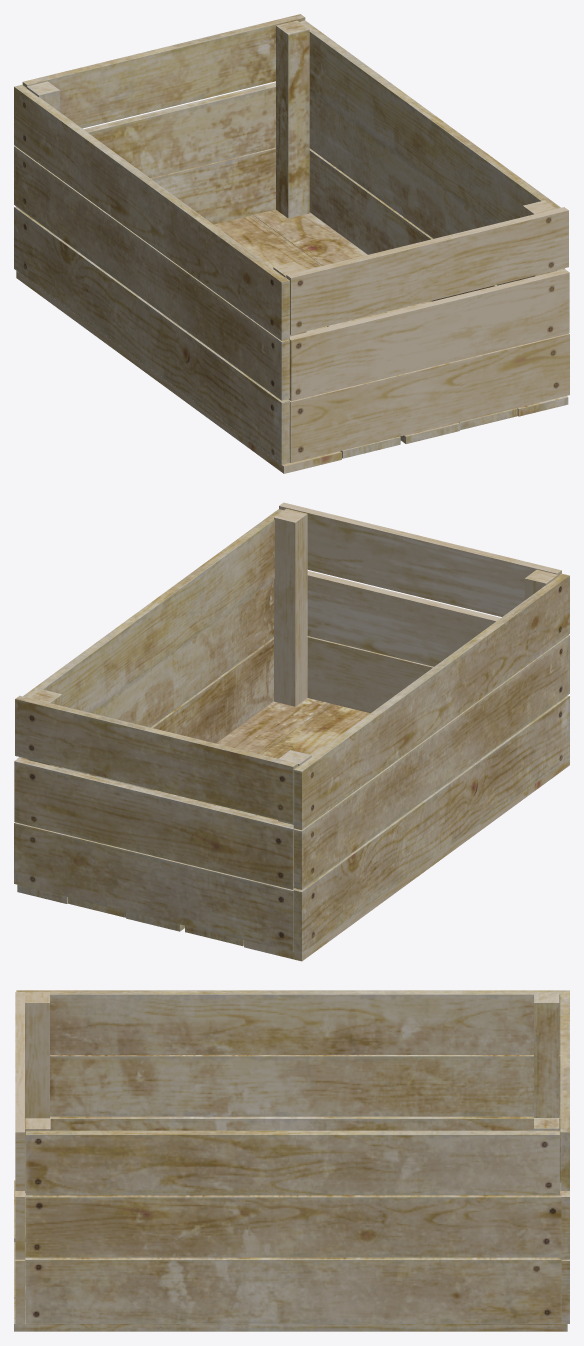
Rendered from SM_PK04_WoodenCrate_01.fbx.
The picture shows the model from 3 angles, top to bottom: view 1: azimuth 30°, elevation 25°; view 2: azimuth 150°, elevation 25°; view 3: azimuth 270°, elevation 25°; orthographic projection. The views are drawn at different scales.
Parts seen in each view (by area): view 1: SM_PK04_WoodenCrate_01_LOD0; view 2: SM_PK04_WoodenCrate_01_LOD0; view 3: SM_PK04_WoodenCrate_01_LOD0.
Boxes of the visible parts, left/top/right/bottom form: SM_PK04_WoodenCrate_01_LOD0: left=14, top=14, right=569, bottom=473; SM_PK04_WoodenCrate_01_LOD0: left=14, top=502, right=569, bottom=961; SM_PK04_WoodenCrate_01_LOD0: left=14, top=990, right=569, bottom=1331.
Bounding box in the file's own units: 41.71 × 67.47 × 26.77.
1 material, 1 textured.
